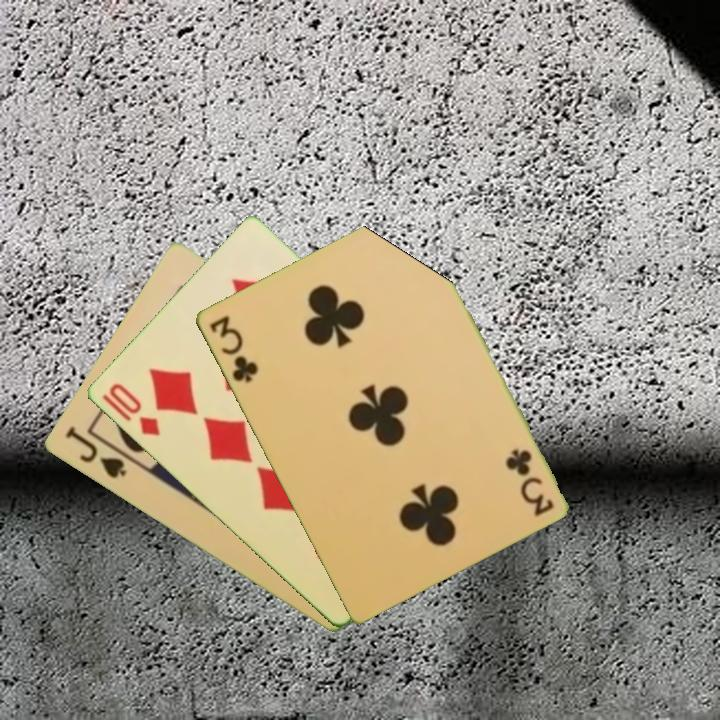10d: (97, 379, 163, 439)
3c: (205, 311, 261, 386), (503, 445, 556, 519)
Js: (61, 423, 129, 482)
